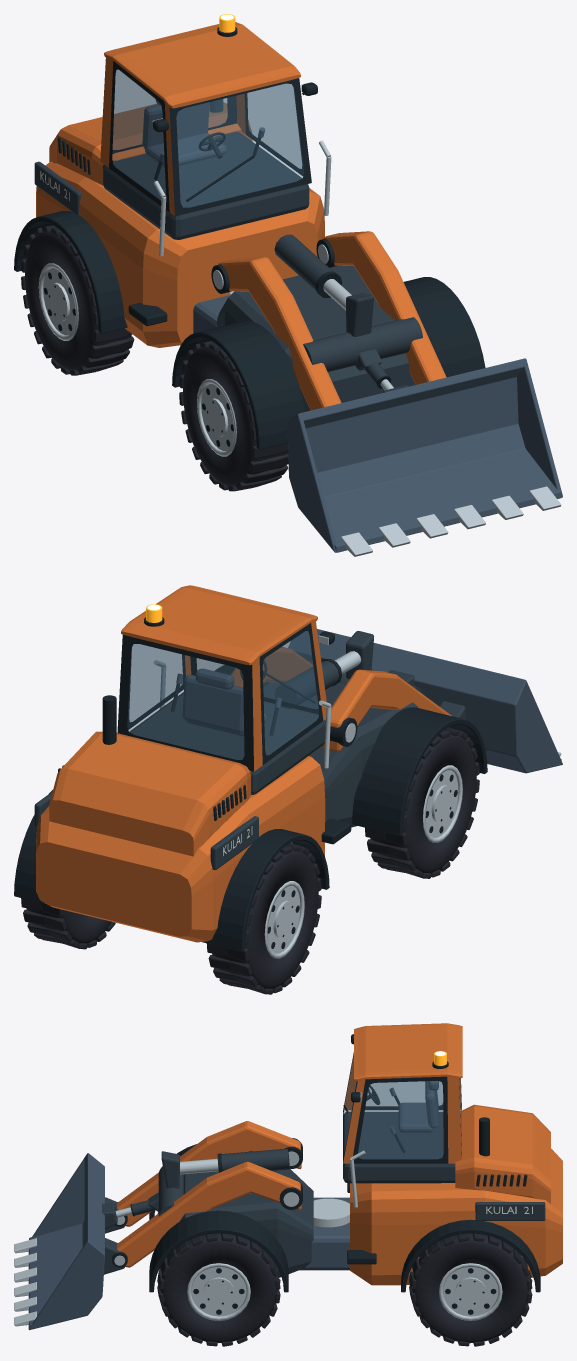
The picture shows the model from 3 angles, top to bottom: view 1: azimuth 30°, elevation 25°; view 2: azimuth 150°, elevation 25°; view 3: azimuth 270°, elevation 25°; orthographic projection. The views are drawn at different scales.
Parts seen in each view (by area): view 1: Kulai Wheel Loader; view 2: Kulai Wheel Loader; view 3: Kulai Wheel Loader.
Boxes of the visible parts, x1,y1,x2,y2 form: Kulai Wheel Loader: (14,14,562,556); Kulai Wheel Loader: (14,585,562,994); Kulai Wheel Loader: (14,1023,562,1346).
Size of the model in its own units: 2.44 by 3.37 by 6.37.
